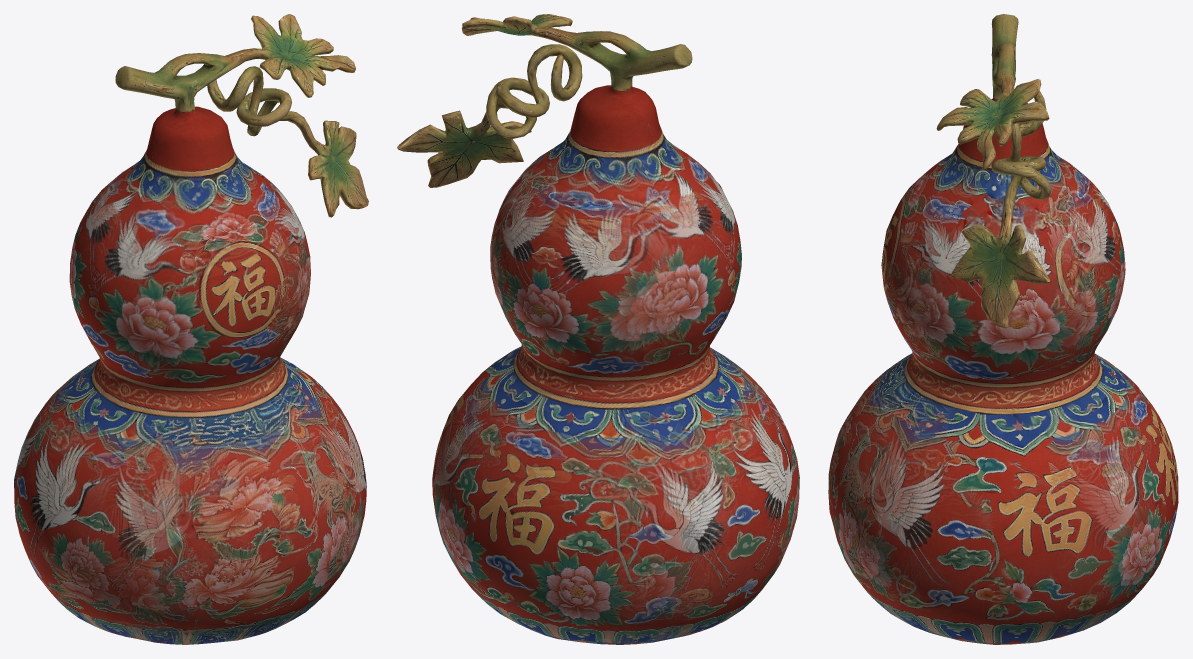
File: guofengrq1.fbx
3 renders of one model, left to right at view 1: azimuth 30°, elevation 25°; view 2: azimuth 150°, elevation 25°; view 3: azimuth 270°, elevation 25°, orthographic. The views are drawn at different scales.
Parts seen in each view (by area): view 1: node_a46f94b8; view 2: node_a46f94b8; view 3: node_a46f94b8.
Part boxes in pixels (x1,y1,x2,y2): node_a46f94b8: (14,14,368,644); node_a46f94b8: (397,14,799,644); node_a46f94b8: (828,14,1178,644).
Size of the model in its own units: 0.6415 by 0.9988 by 0.5622.
